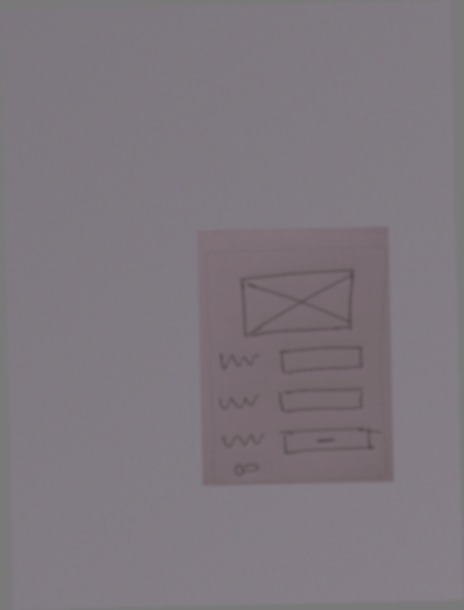button: (275, 424, 382, 458)
image: (235, 266, 361, 343)
switch: (226, 458, 263, 478)
text: (217, 429, 269, 454), (214, 387, 261, 413), (217, 347, 262, 372)
text_input: (273, 343, 368, 378), (274, 385, 368, 419)
